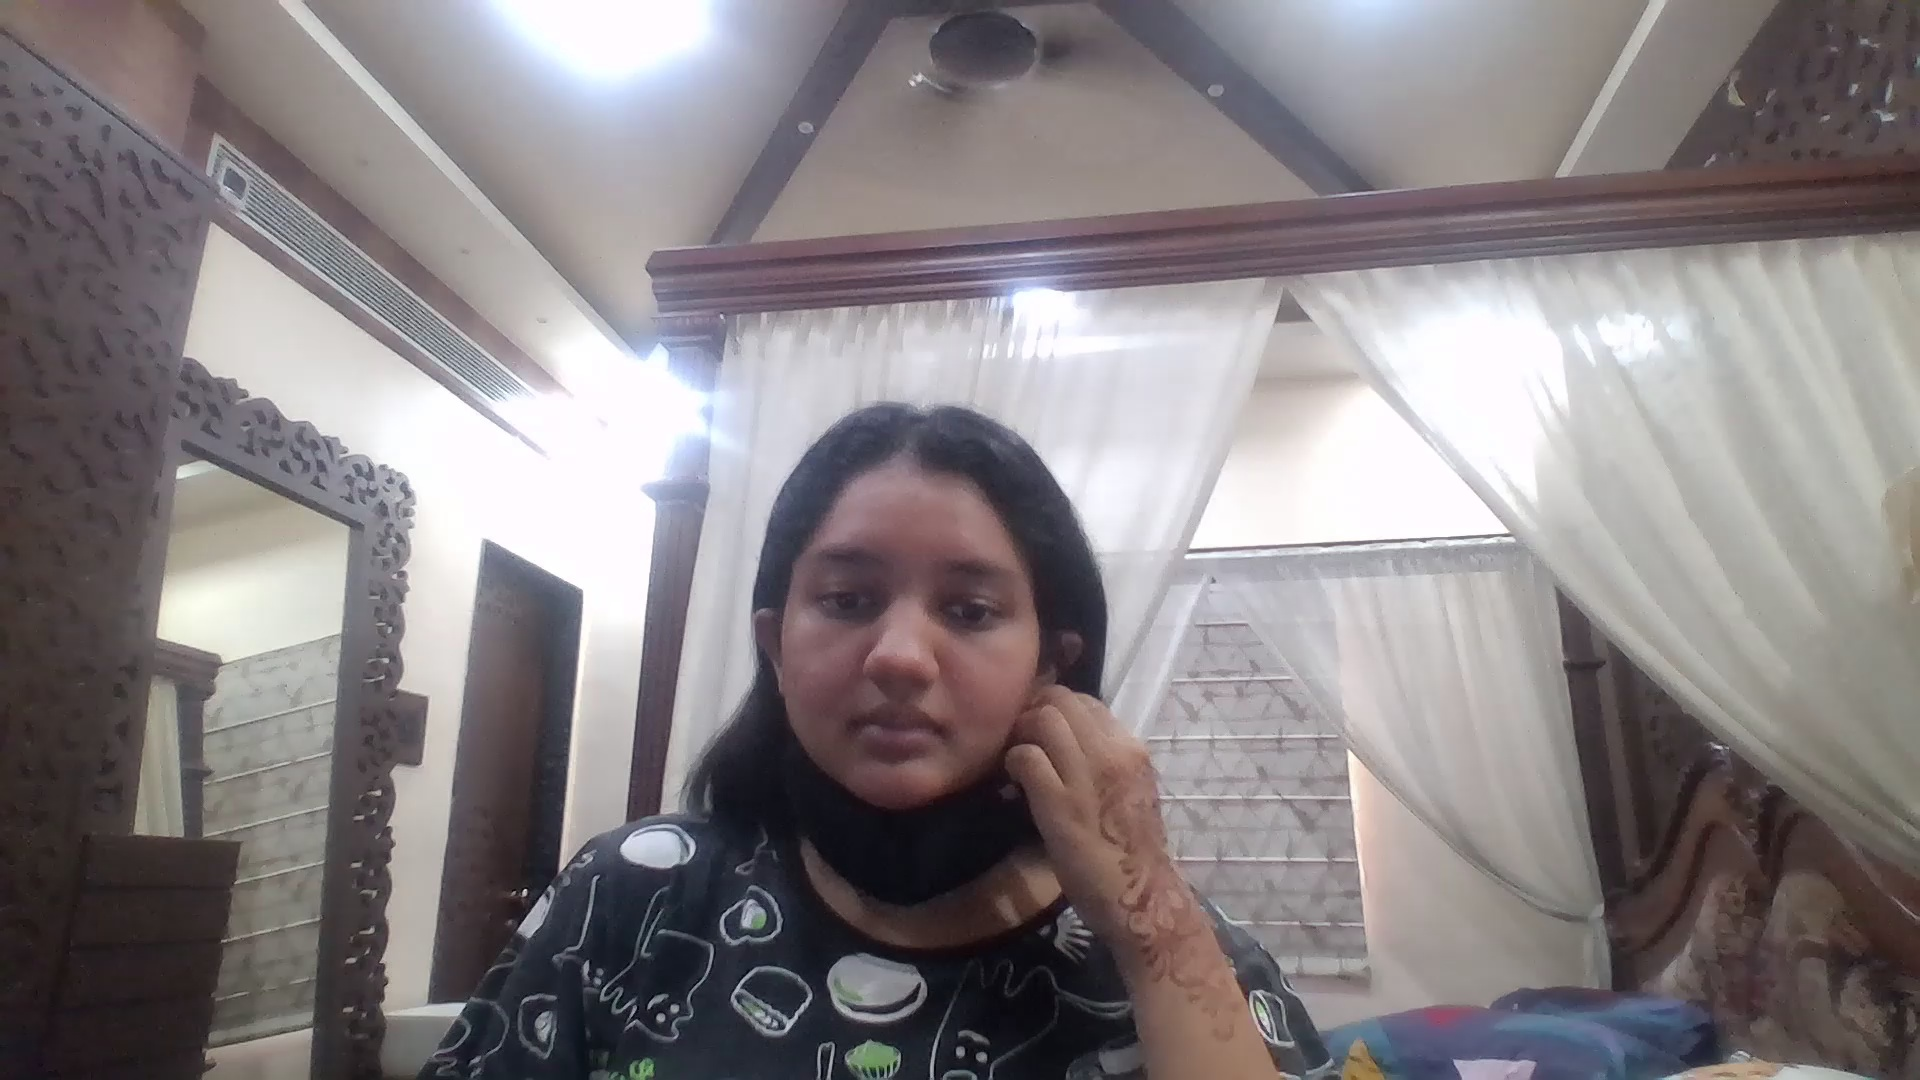No Mask: (778, 647, 1040, 808)
